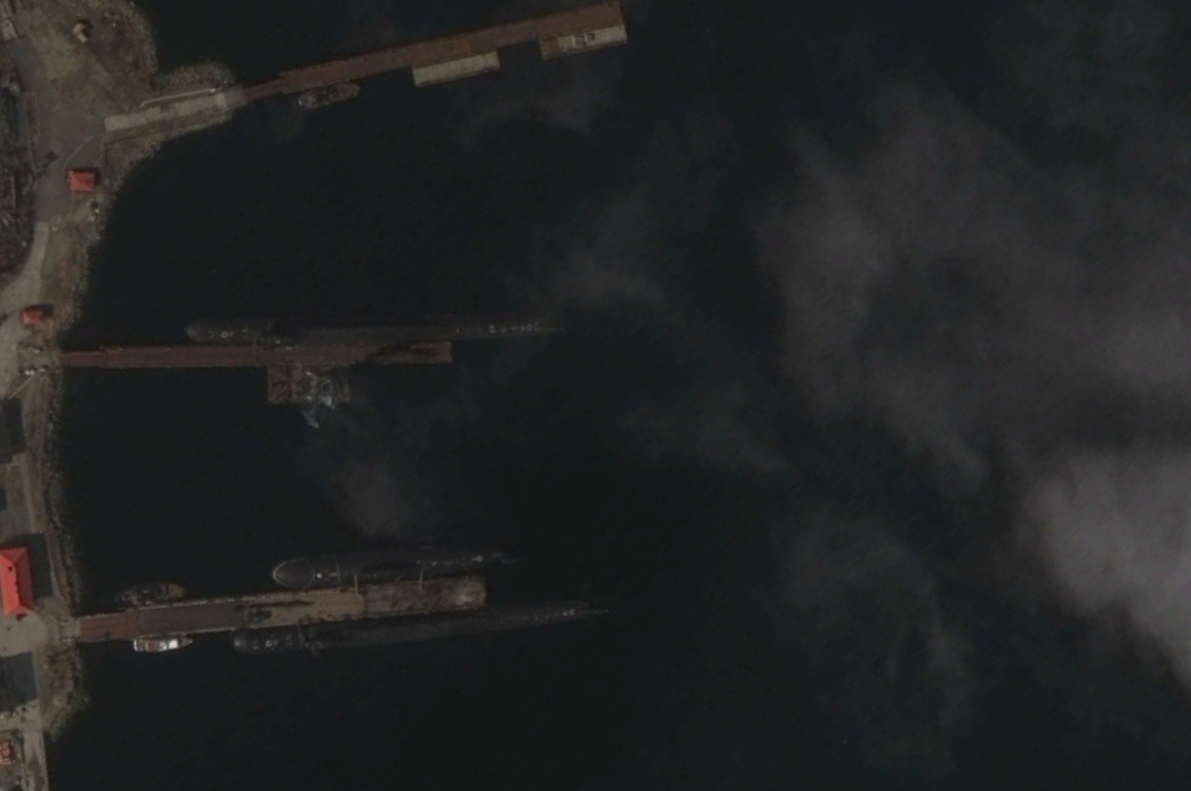merchant ship: (116, 581, 189, 610), (128, 634, 194, 653)
submarine: (230, 597, 613, 658), (272, 540, 550, 589), (180, 317, 571, 345)
